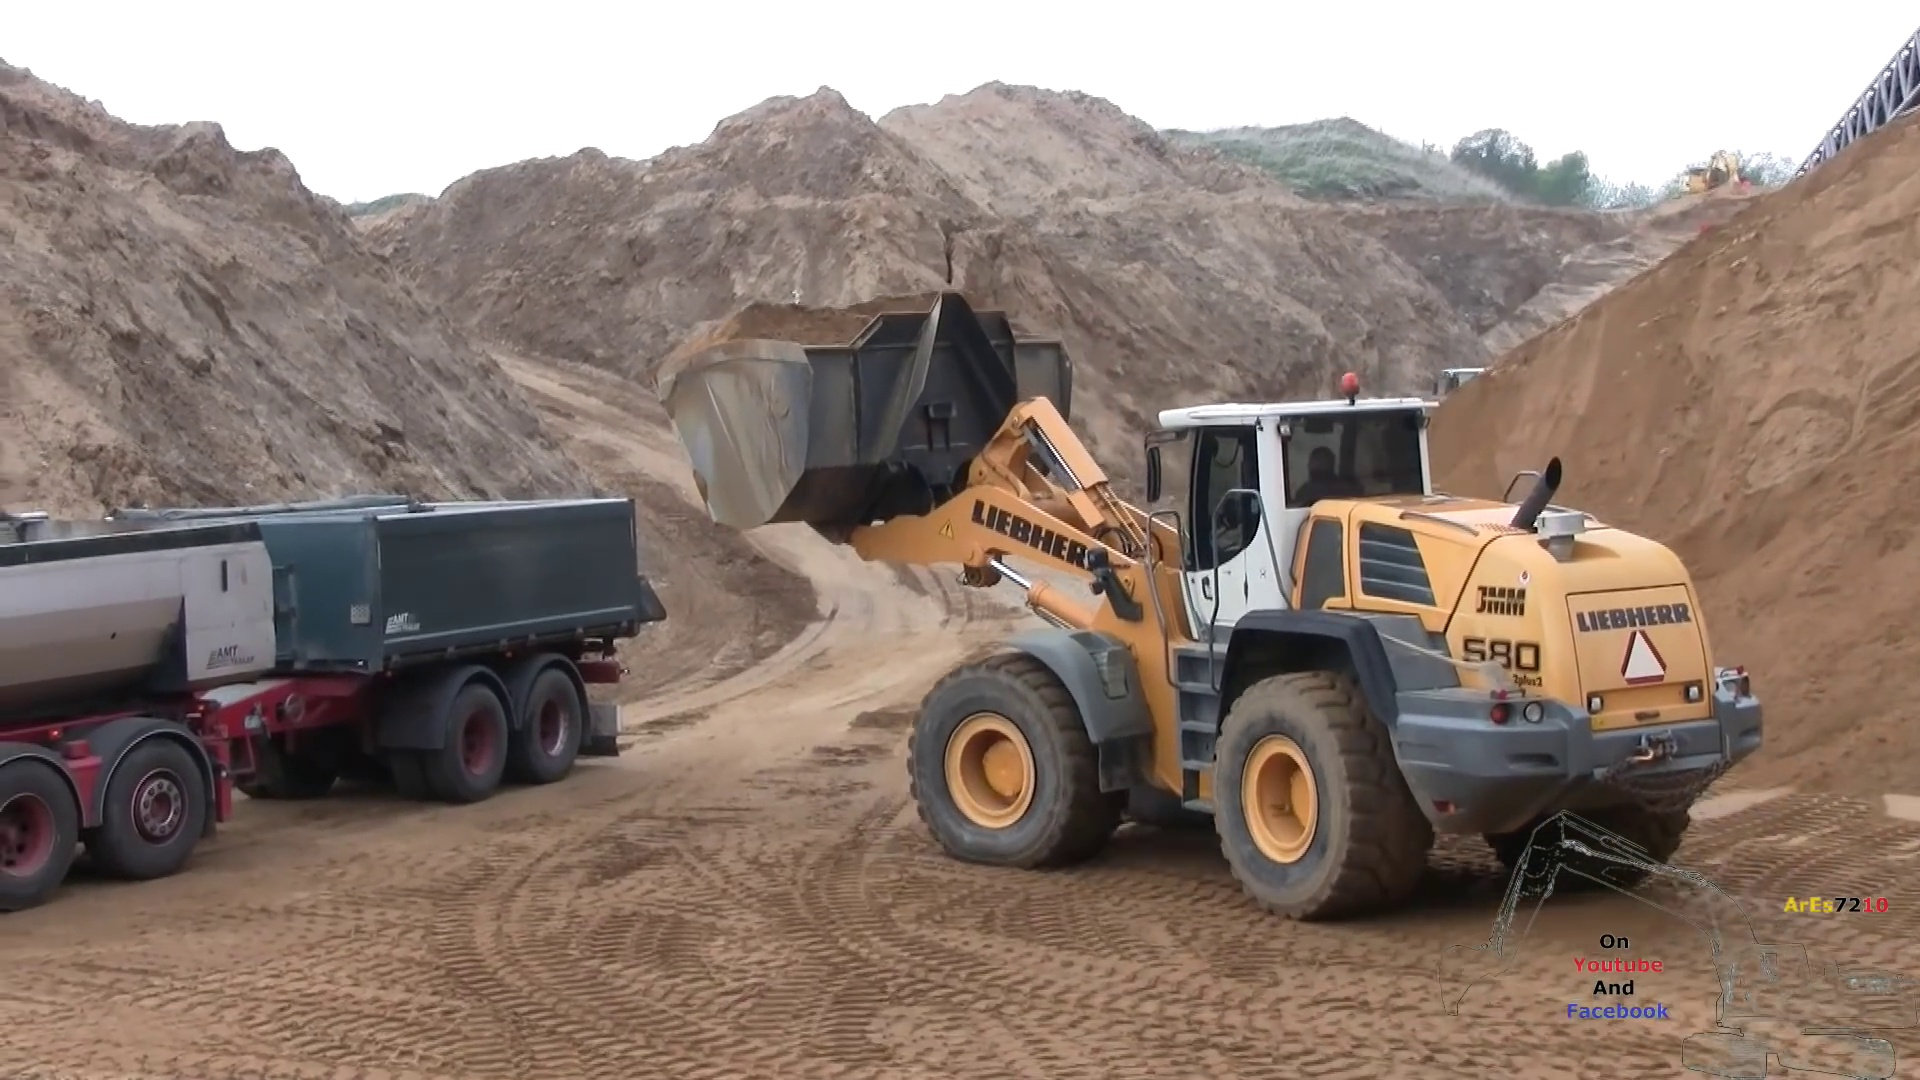truck: (5, 495, 670, 918)
wheel loader: (659, 291, 1764, 915)
